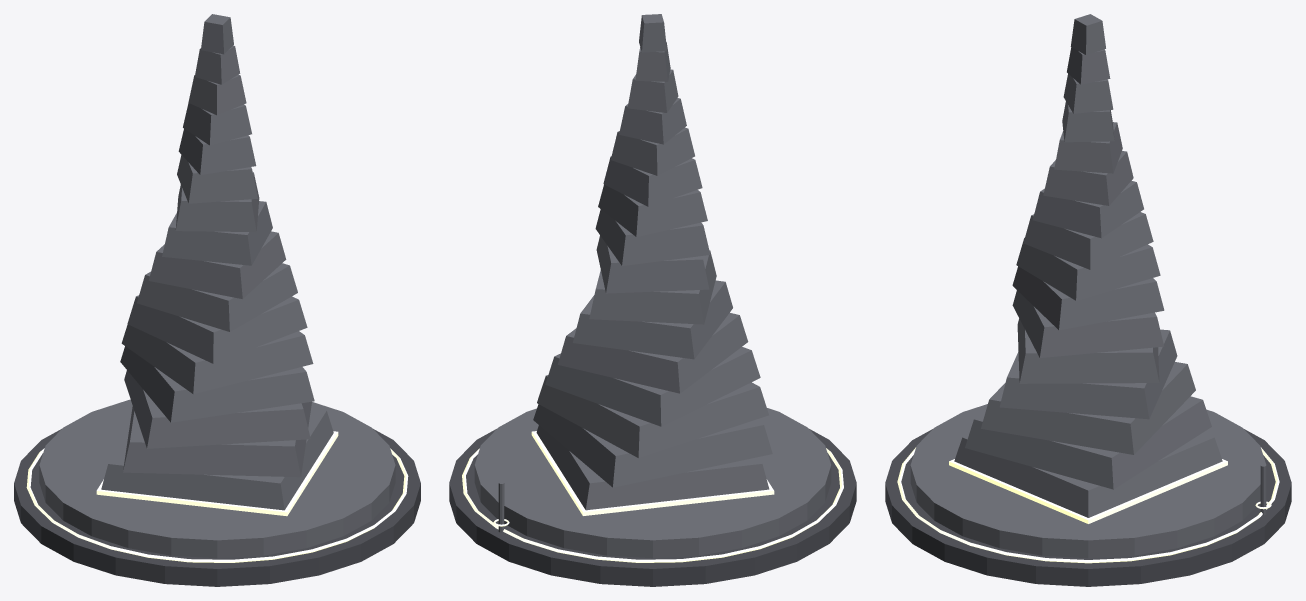
Rendered from zone_high_4_t1.glb.
3 renders of one model, left to right at view 1: azimuth 30°, elevation 25°; view 2: azimuth 150°, elevation 25°; view 3: azimuth 270°, elevation 25°, orthographic.
Parts seen in each view (by area): view 1: zone_high_4_t1; view 2: zone_high_4_t1; view 3: zone_high_4_t1.
Boxes of the visible parts, x1,y1,x2,y2 form: zone_high_4_t1: (14,14,420,586); zone_high_4_t1: (449,14,856,586); zone_high_4_t1: (885,14,1291,586).
Size of the model in its own units: 28.8 by 37.6 by 28.8.
